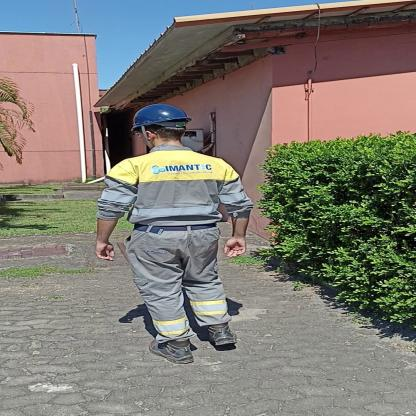Capacete: (131, 100, 192, 126)
